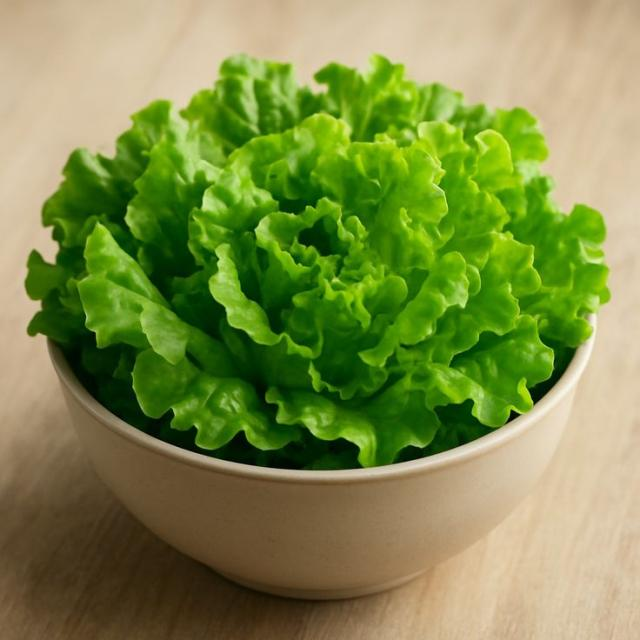lettuce: (27, 56, 608, 468)
